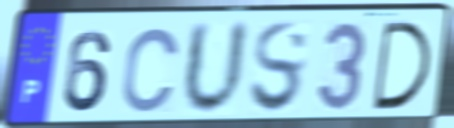3: (314, 19, 368, 115)
6: (63, 28, 112, 114)
C: (119, 25, 183, 116)
D: (371, 19, 435, 114)
S: (247, 19, 311, 117)
U: (179, 18, 252, 120)
